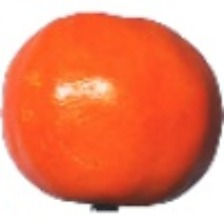tangerine: (60, 44, 206, 213)
